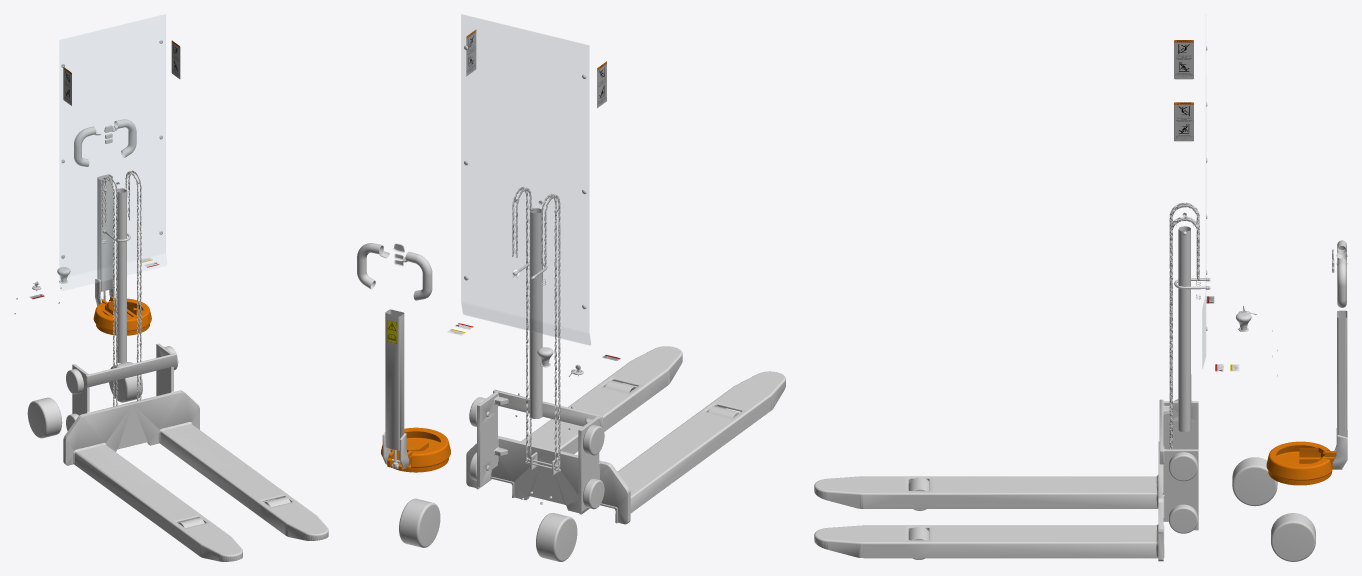
Rendered from forklift.glb.
The picture shows the model from 3 angles, left to right: view 1: azimuth 30°, elevation 25°; view 2: azimuth 150°, elevation 25°; view 3: azimuth 270°, elevation 25°; orthographic projection. The views are drawn at different scales.
Visible parts, largest first — view 1: sm_glass_a01_mesh_00, sm_fork_a01_mesh_00, sm_body_a01_mesh_00, sm_rudder_a01_mesh_00, sm_ruddebase_a01_mesh_00, sm_wheel2_a01_mesh_00, sm_wheel1_a01_mesh_00, sm_forkwheels2_a01_mesh_00; view 2: sm_glass_a01_mesh_00, sm_fork_a01_mesh_00, sm_body_a01_mesh_00, sm_rudder_a01_mesh_00, sm_ruddebase_a01_mesh_00, sm_wheel1_a01_mesh_00, sm_wheel2_a01_mesh_00, sm_forkwheels2_a01_mesh_00, sm_forkwheels1_a01_mesh_00; view 3: sm_fork_a01_mesh_00, sm_body_a01_mesh_00, sm_ruddebase_a01_mesh_00, sm_rudder_a01_mesh_00, sm_wheel1_a01_mesh_00, sm_wheel2_a01_mesh_00, sm_forkwheels2_a01_mesh_00, sm_forkwheels1_a01_mesh_00.
Boxes of the visible parts, box(x1,y1,x2,y2) form: sm_glass_a01_mesh_00: box(59, 14, 166, 290); sm_fork_a01_mesh_00: box(63, 343, 328, 561); sm_body_a01_mesh_00: box(14, 40, 180, 406); sm_rudder_a01_mesh_00: box(74, 119, 136, 305); sm_ruddebase_a01_mesh_00: box(93, 296, 151, 335); sm_wheel2_a01_mesh_00: box(27, 397, 62, 438); sm_wheel1_a01_mesh_00: box(109, 362, 142, 402); sm_forkwheels2_a01_mesh_00: box(66, 346, 178, 394); sm_glass_a01_mesh_00: box(461, 14, 590, 345); sm_fork_a01_mesh_00: box(466, 346, 785, 524); sm_body_a01_mesh_00: box(447, 29, 620, 504); sm_rudder_a01_mesh_00: box(357, 243, 432, 468); sm_ruddebase_a01_mesh_00: box(381, 427, 450, 472); sm_wheel1_a01_mesh_00: box(399, 498, 440, 547); sm_wheel2_a01_mesh_00: box(536, 513, 577, 561); sm_forkwheels2_a01_mesh_00: box(469, 397, 604, 455); sm_forkwheels1_a01_mesh_00: box(469, 452, 604, 509); sm_fork_a01_mesh_00: box(814, 399, 1198, 561); sm_body_a01_mesh_00: box(1169, 40, 1277, 449); sm_ruddebase_a01_mesh_00: box(1266, 441, 1342, 485); sm_rudder_a01_mesh_00: box(1332, 240, 1347, 469); sm_wheel1_a01_mesh_00: box(1271, 513, 1315, 561); sm_wheel2_a01_mesh_00: box(1232, 457, 1277, 506); sm_forkwheels2_a01_mesh_00: box(1169, 399, 1197, 481); sm_forkwheels1_a01_mesh_00: box(1169, 504, 1197, 533).
Size of the model in its own units: 0.7686 by 1.88 by 1.88.
4 materials, 1 textured.
